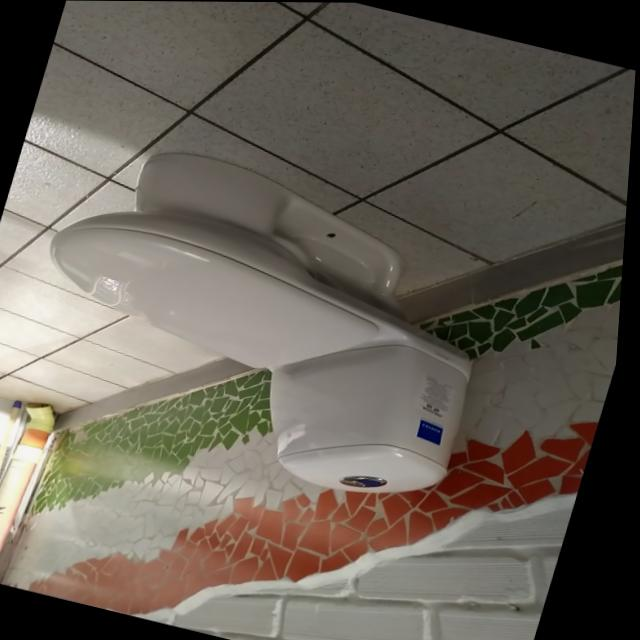toilet: (0, 126, 528, 514)
